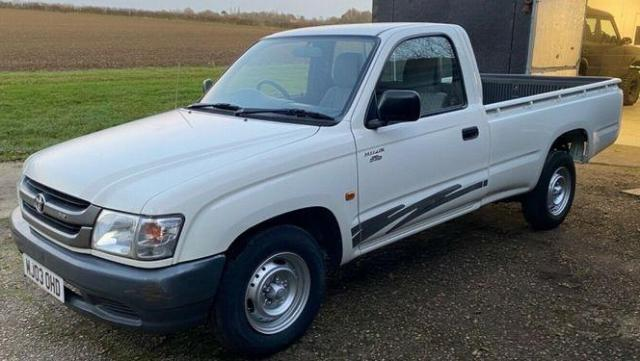pickup-truck: (10, 21, 624, 354)
